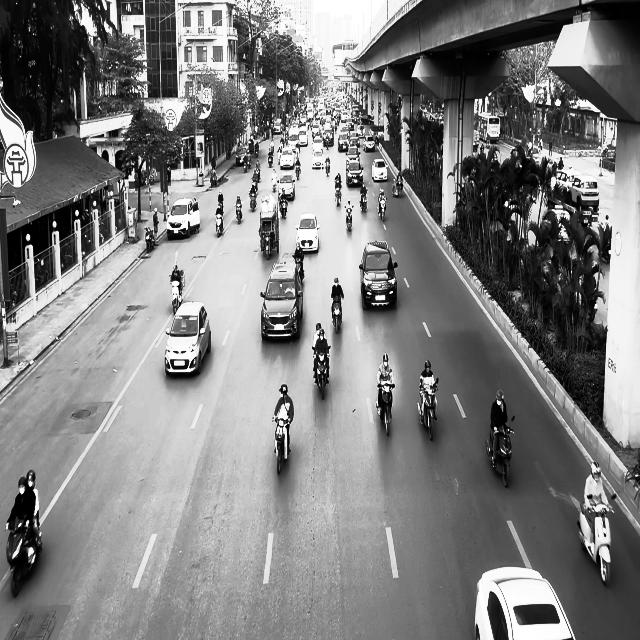car: (474, 566, 576, 639), (260, 256, 303, 341), (164, 300, 211, 376), (358, 240, 398, 311), (166, 197, 200, 240), (294, 212, 320, 253), (278, 172, 296, 200), (371, 158, 388, 181)
motorbike: (577, 493, 614, 586), (5, 514, 43, 597), (485, 415, 515, 487), (418, 377, 438, 441), (273, 415, 291, 474), (312, 345, 330, 399), (377, 382, 394, 436), (170, 276, 182, 315), (331, 296, 343, 332), (144, 227, 155, 252), (344, 205, 353, 231), (248, 188, 257, 212), (334, 182, 342, 206), (216, 210, 223, 237), (235, 201, 243, 224), (378, 199, 386, 221), (359, 191, 367, 212), (271, 173, 277, 191), (325, 159, 330, 176)
